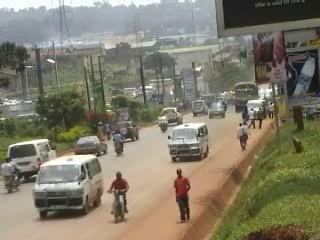Car: (69, 133, 108, 160), (109, 119, 143, 144), (157, 105, 185, 124), (203, 99, 227, 120)
Motorcycle: (104, 169, 132, 224), (2, 153, 24, 194), (110, 130, 127, 157), (155, 110, 171, 134)
